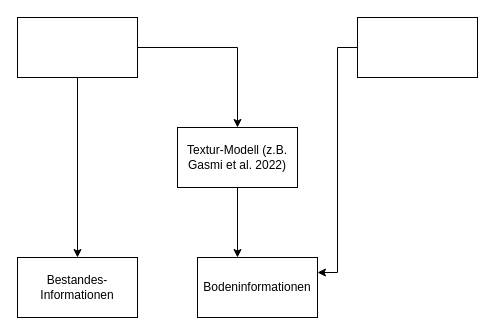
The diagram is 495 pixels wide and 335 high, and some of its shapes have lost their labels. The shapes that lost their labels are listed below. From the top down, each one's centre as x and y in pixels, then its label:
At pixel 77 47: "Satelliten-Daten (z.B. Sentinel 2)".
At pixel 417 47: "Bodenschätzkarten der Länder".
